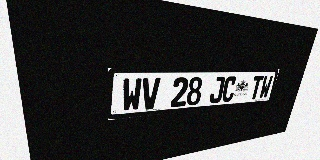2: (171, 77, 189, 107)
8: (186, 77, 204, 106)
C: (221, 76, 237, 102)
J: (209, 76, 226, 104)
T: (249, 76, 264, 100)
V: (141, 77, 161, 110)
W: (122, 78, 142, 112), (258, 76, 273, 99)
